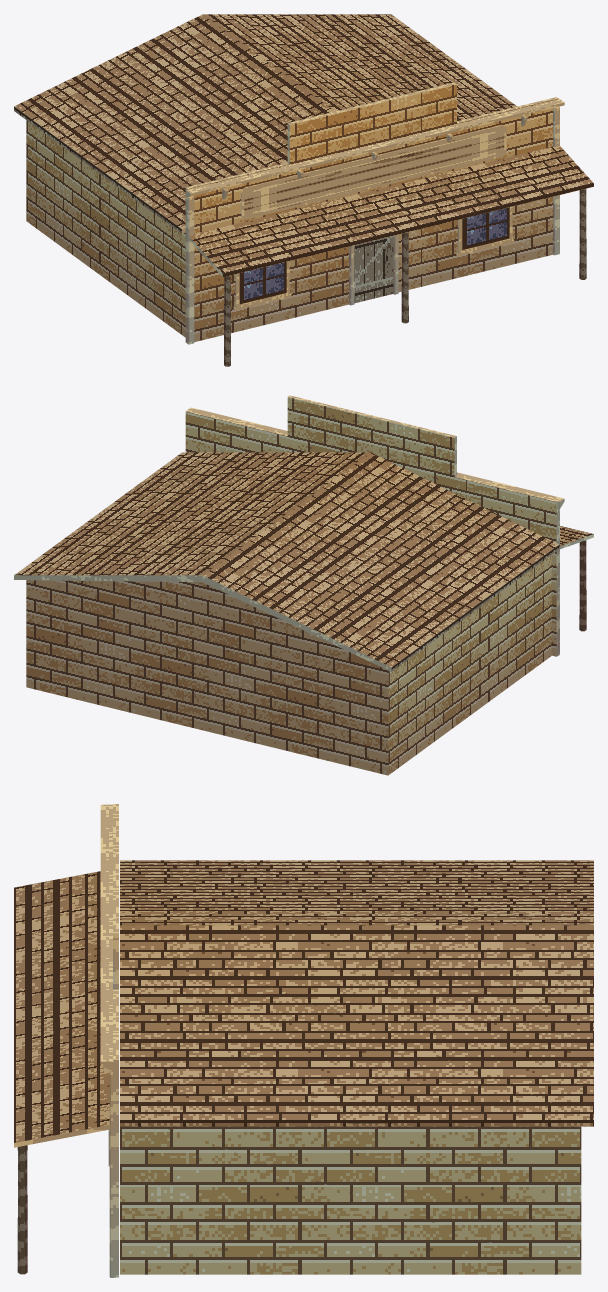
File: wtown.store__brick.glb
The picture shows the model from 3 angles, top to bottom: view 1: azimuth 30°, elevation 25°; view 2: azimuth 150°, elevation 25°; view 3: azimuth 270°, elevation 25°; orthographic projection. The views are drawn at different scales.
Visible parts, largest first — view 1: kit_roof, kit_front, kit_porch, kit_body, kit_card_panes, kit_trim, kit_windows; view 2: kit_roof, kit_body, kit_front, kit_porch, kit_trim; view 3: kit_roof, kit_body, kit_porch, kit_trim, kit_front.
Boxes of the visible parts, box(x1,y1,x2,y2) form: kit_roof: box(14, 14, 516, 233); kit_front: box(185, 82, 558, 342); kit_porch: box(188, 146, 593, 366); kit_body: box(26, 120, 185, 337); kit_card_panes: box(239, 128, 509, 304); kit_trim: box(186, 99, 564, 344); kit_windows: box(233, 206, 514, 310); kit_roof: box(14, 452, 559, 671); kit_body: box(26, 555, 551, 775); kit_front: box(185, 395, 558, 656); kit_porch: box(560, 526, 593, 631); kit_trim: box(188, 407, 564, 655); kit_roof: box(120, 860, 593, 1126); kit_body: box(120, 1126, 581, 1274); kit_porch: box(14, 871, 110, 1274); kit_trim: box(100, 804, 113, 1277); kit_front: box(113, 804, 118, 1277).
Bounding box in the file's own units: 12 × 5.9 × 11.32.
Materials: 7 (7 with a texture image).
